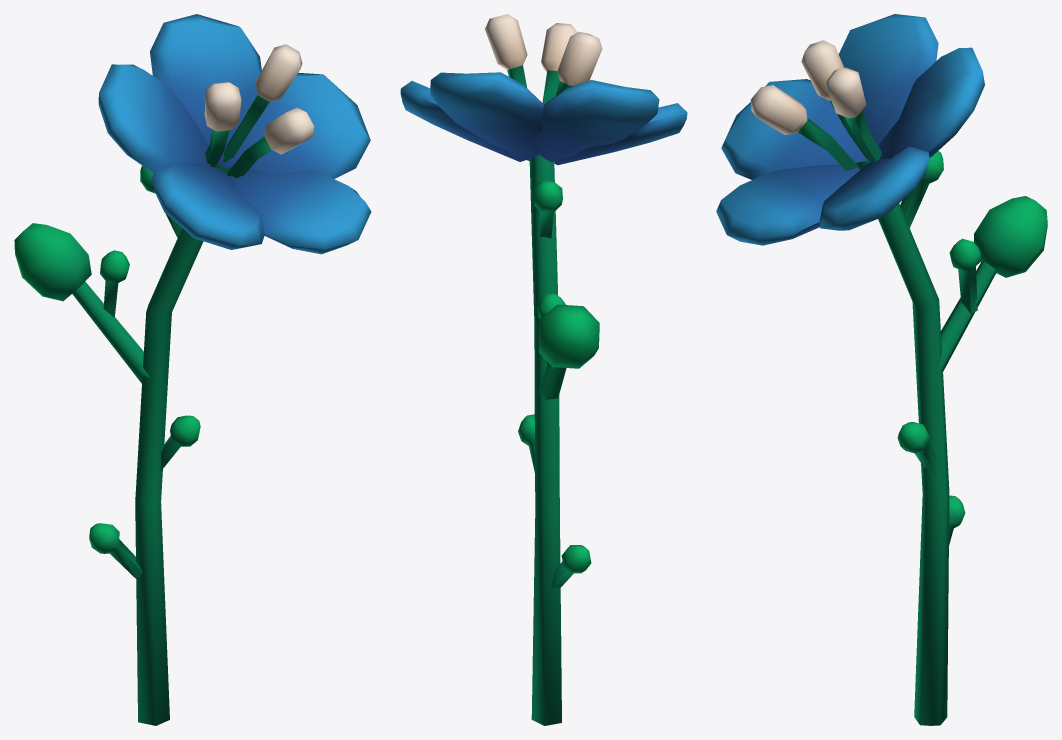
File: flax_flower_B.glb
3 renders of one model, left to right at view 1: azimuth 30°, elevation 25°; view 2: azimuth 150°, elevation 25°; view 3: azimuth 270°, elevation 25°, orthographic. The views are drawn at different scales.
Parts seen in each view (by area): view 1: flax_flower_B; view 2: flax_flower_B; view 3: flax_flower_B.
Part boxes in pixels (left/top/right/bottom): flax_flower_B: left=14, top=14, right=371, bottom=725; flax_flower_B: left=400, top=14, right=687, bottom=725; flax_flower_B: left=716, top=14, right=1047, bottom=725.
Size of the model in its own units: 0.3681 by 0.8959 by 0.3842.
1 material, 1 textured.
